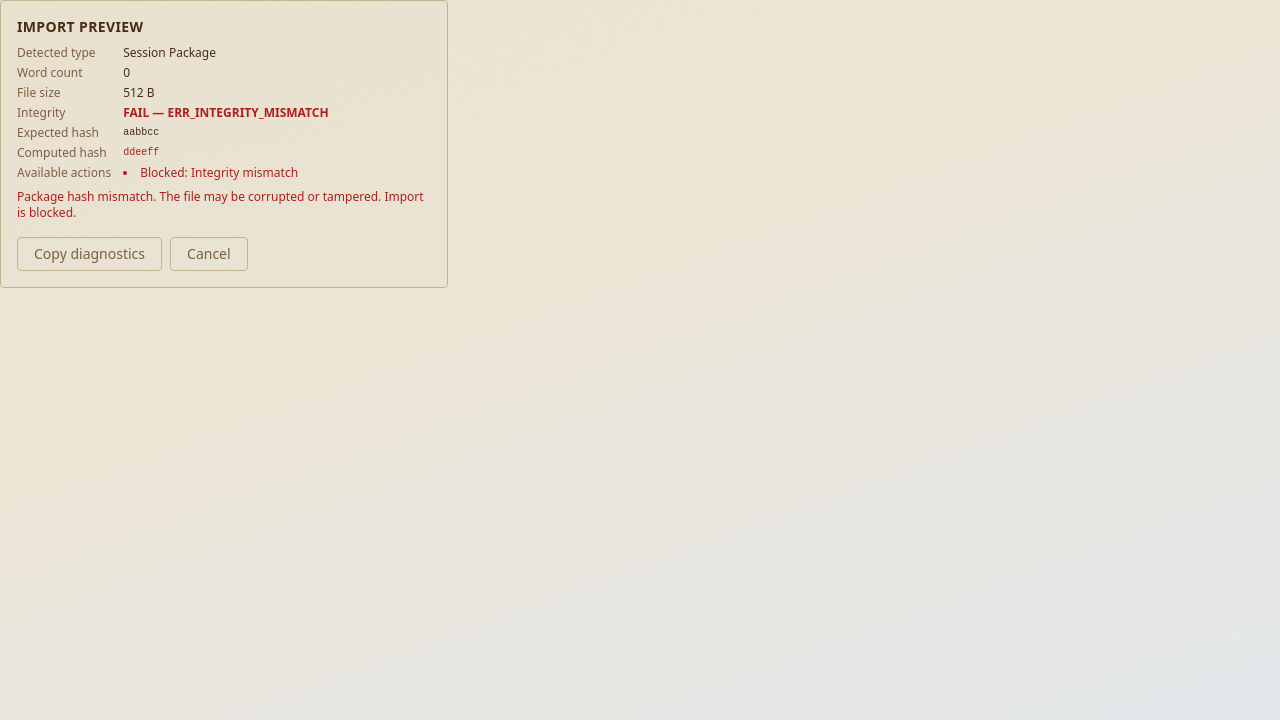
0251 — Clipboard failure fallback › shows Copied confirmation on clipboard success
Click the button "Copy diagnostics" at (90, 254), box [17,237,162,271]
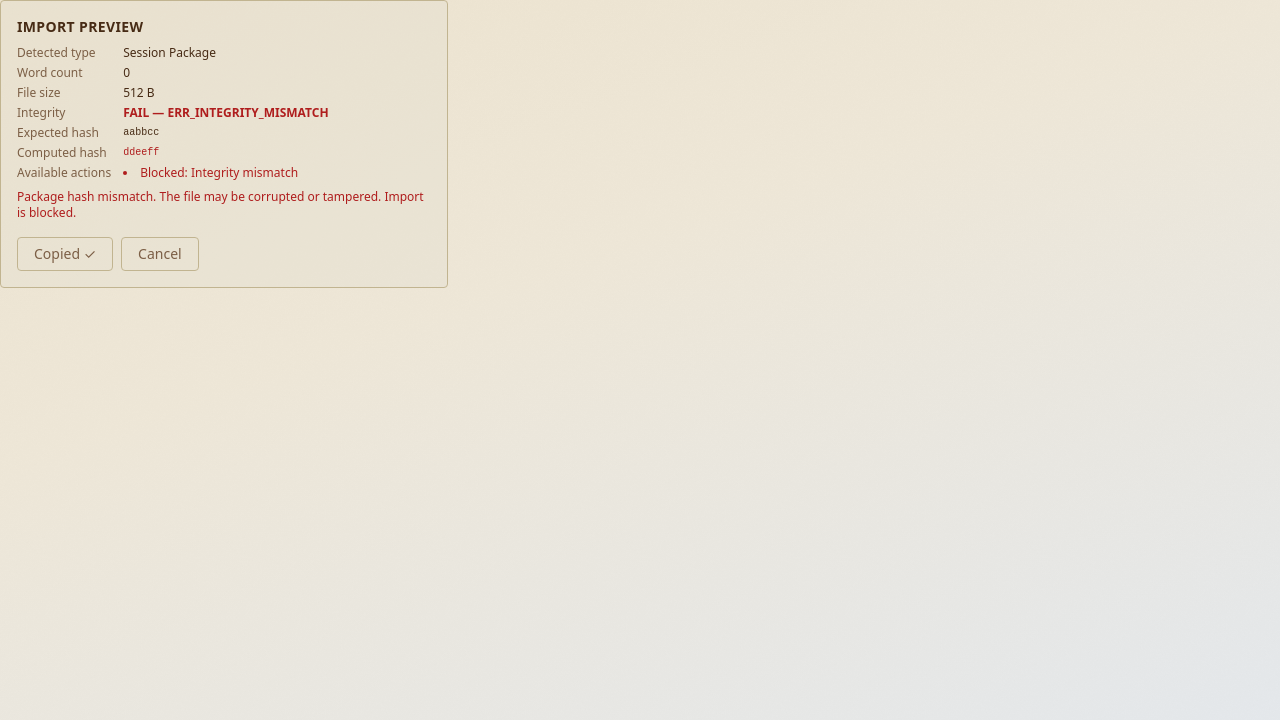
expect the button "Copied ✓" is shown: met, box [17,237,113,271]
